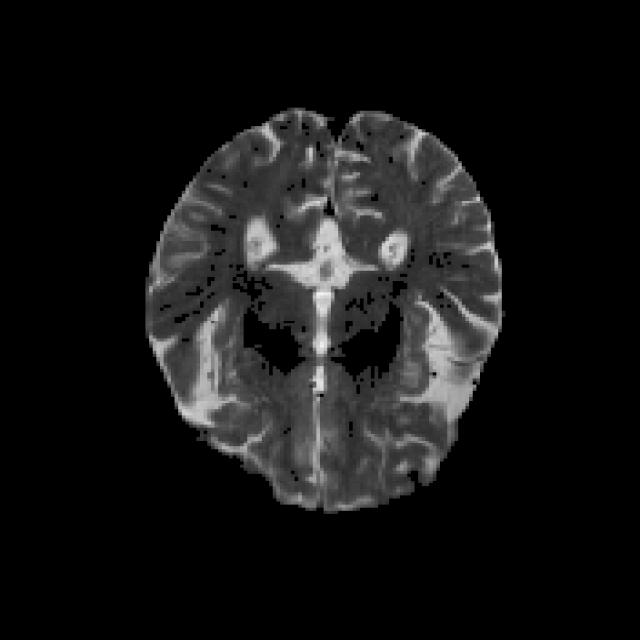parkinson: (142, 104, 502, 514)
